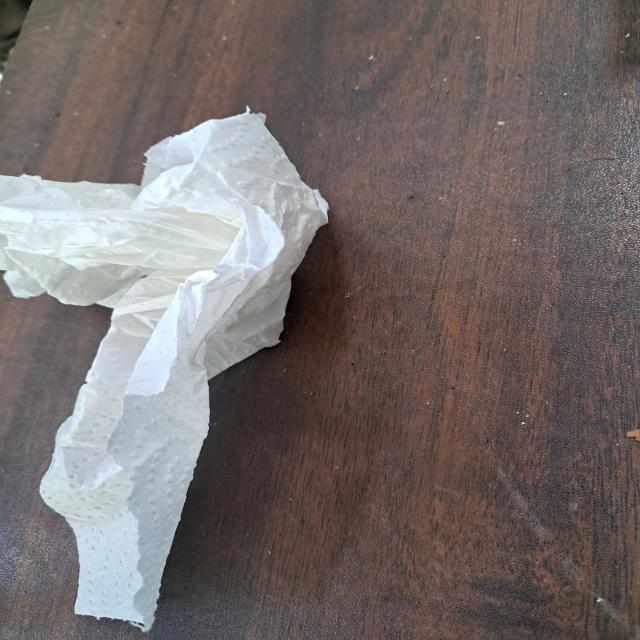Organik: (0, 108, 331, 625)
